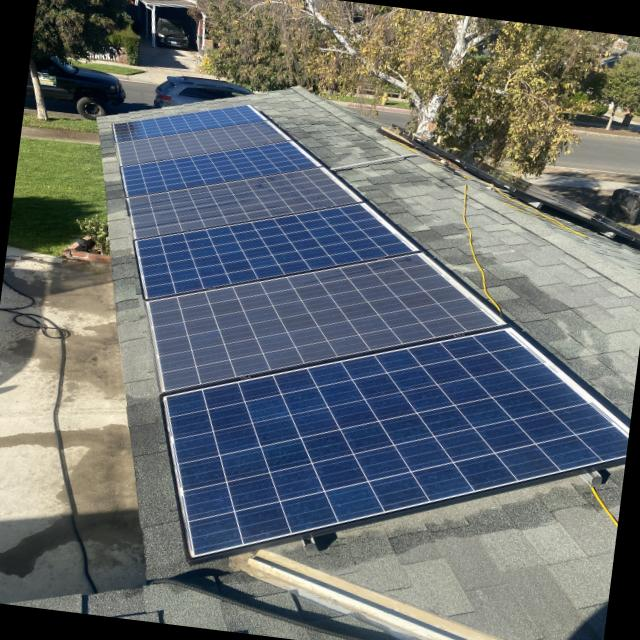faulty: (147, 249, 502, 391), (127, 167, 361, 239), (115, 120, 287, 167)
no faulty: (161, 324, 627, 558), (140, 201, 419, 296), (119, 140, 318, 197), (111, 104, 264, 145)
